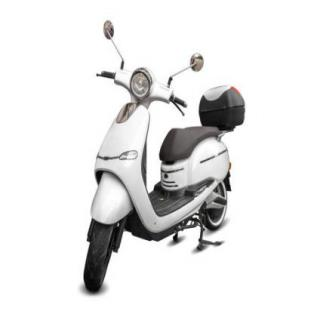Motocicleta: (77, 13, 249, 297)
